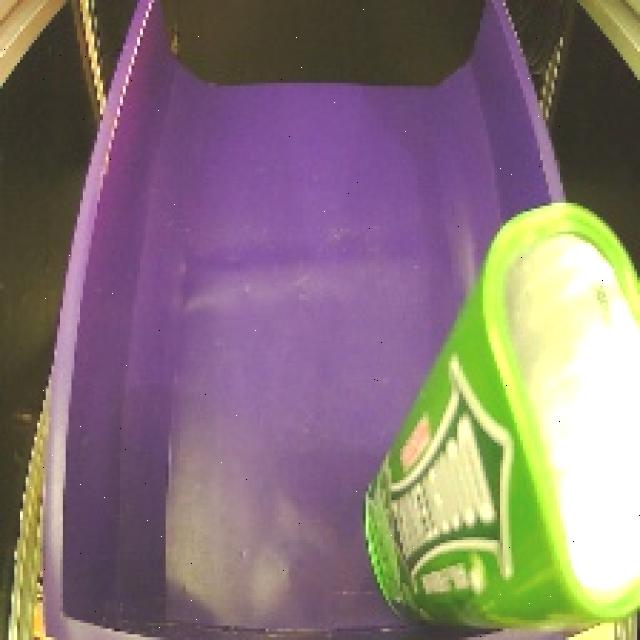metal: (354, 183, 640, 640)
